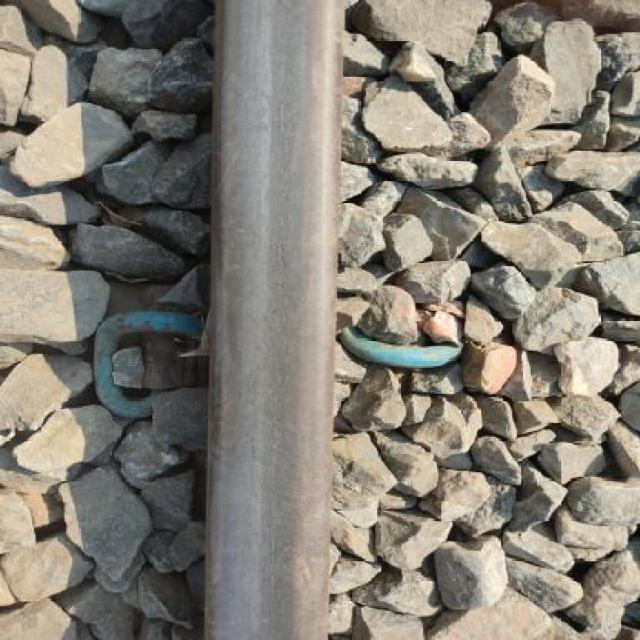non-defective: (186, 0, 423, 628)
